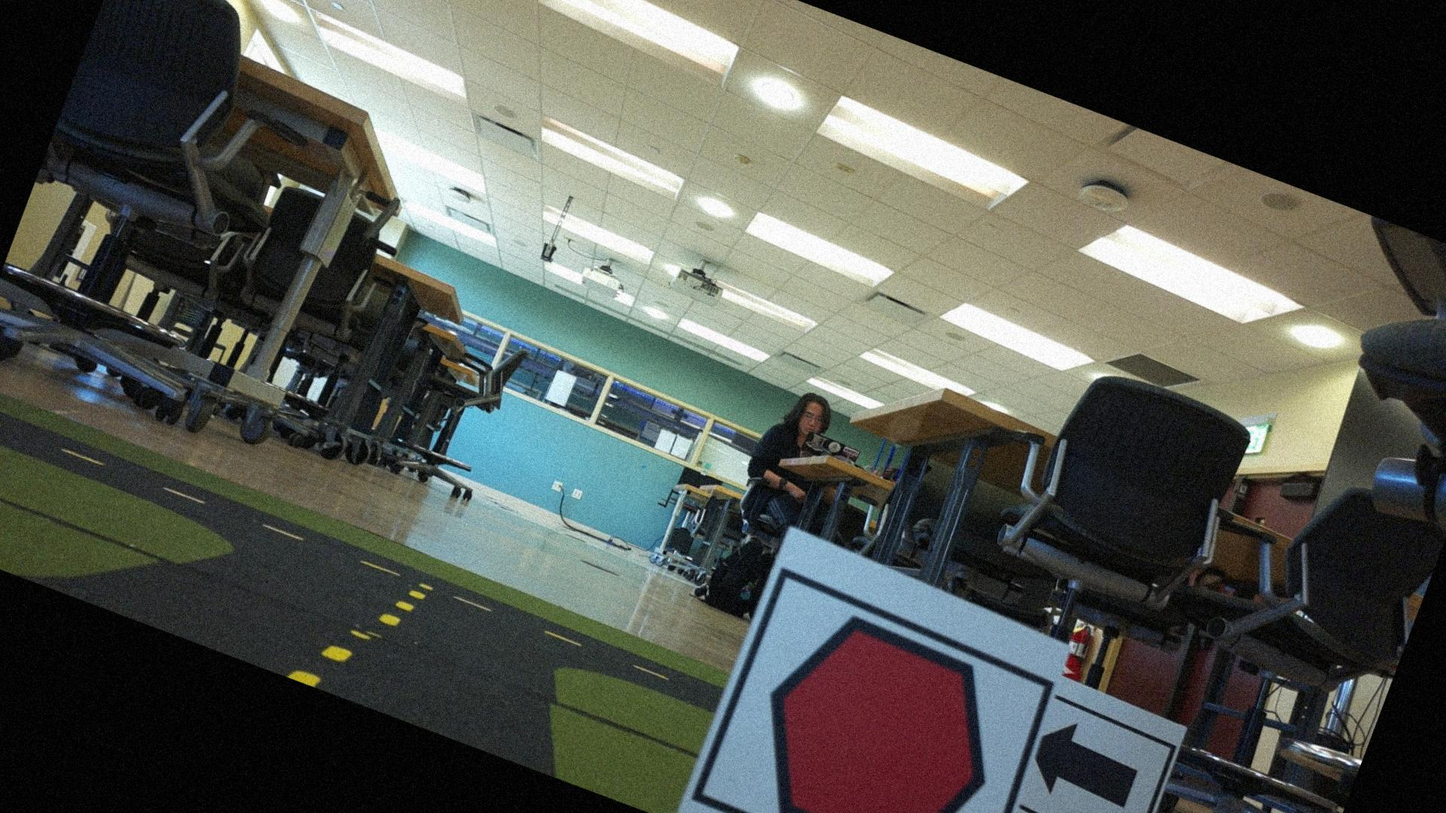stop: (710, 584, 1041, 812)
turnright: (1017, 705, 1171, 812)
yellowline: (284, 626, 355, 696), (372, 575, 426, 636)
